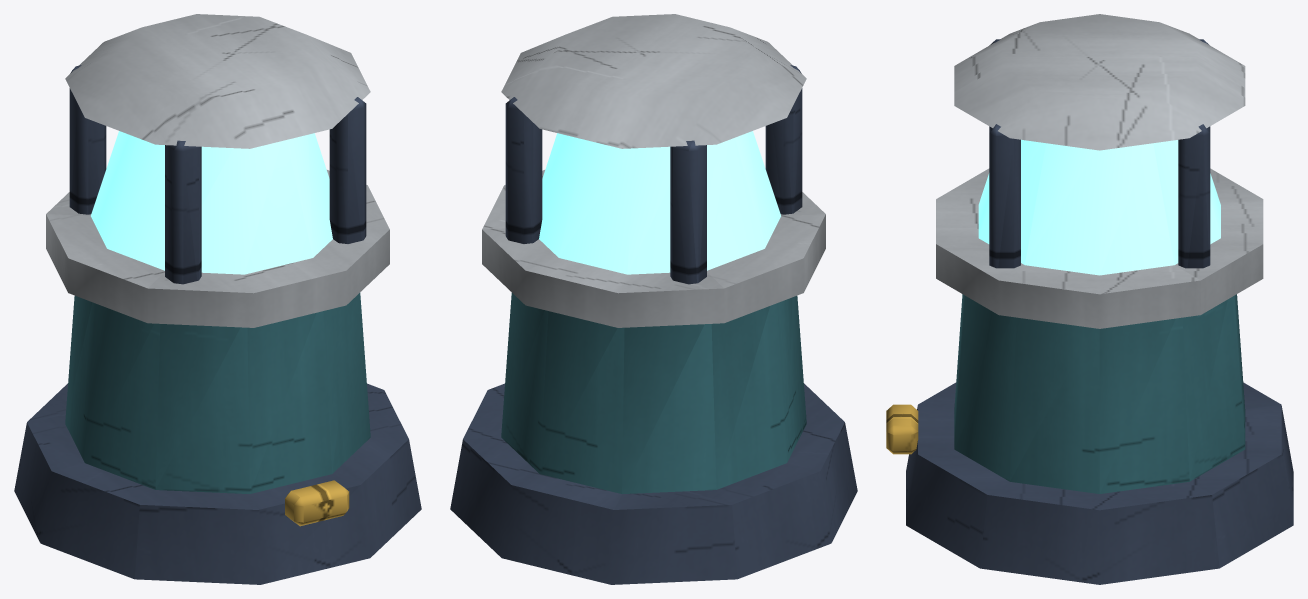
Rendered from nav_beacon.glb.
3 renders of one model, left to right at view 1: azimuth 30°, elevation 25°; view 2: azimuth 150°, elevation 25°; view 3: azimuth 270°, elevation 25°, orthographic.
Parts seen in each view (by area): view 1: DL020_NavBeacon_graphite_navy, DL020_NavBeacon_titanium, DL020_NavBeacon_teal_shell, DL020_NavBeacon_emissive_cyan, DL020_NavBeacon_amber_accent; view 2: DL020_NavBeacon_graphite_navy, DL020_NavBeacon_titanium, DL020_NavBeacon_teal_shell, DL020_NavBeacon_emissive_cyan; view 3: DL020_NavBeacon_titanium, DL020_NavBeacon_graphite_navy, DL020_NavBeacon_teal_shell, DL020_NavBeacon_emissive_cyan, DL020_NavBeacon_amber_accent.
Boxes of the visible parts, <box> form: DL020_NavBeacon_graphite_navy: <box>14,65,421,584</box>; DL020_NavBeacon_titanium: <box>46,14,389,327</box>; DL020_NavBeacon_teal_shell: <box>65,292,370,493</box>; DL020_NavBeacon_emissive_cyan: <box>91,131,332,274</box>; DL020_NavBeacon_amber_accent: <box>285,480,349,526</box>; DL020_NavBeacon_graphite_navy: <box>450,65,857,584</box>; DL020_NavBeacon_titanium: <box>482,14,825,327</box>; DL020_NavBeacon_teal_shell: <box>501,292,806,493</box>; DL020_NavBeacon_emissive_cyan: <box>539,131,780,274</box>; DL020_NavBeacon_titanium: <box>936,14,1263,328</box>; DL020_NavBeacon_graphite_navy: <box>906,39,1293,584</box>; DL020_NavBeacon_teal_shell: <box>954,294,1245,493</box>; DL020_NavBeacon_emissive_cyan: <box>978,139,1220,275</box>; DL020_NavBeacon_amber_accent: <box>886,404,918,454</box>.
Size of the model in its own units: 0.64 by 0.765 by 0.6393.
5 materials, 4 textured.
